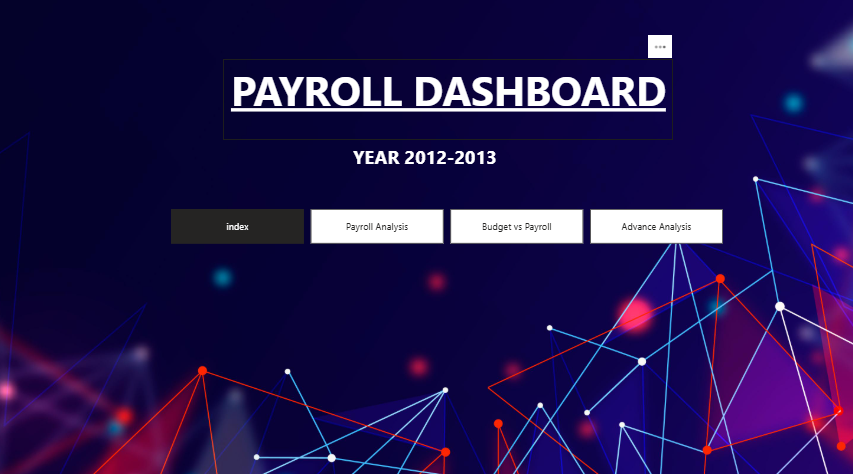

This screenshot's page, from the dashboard's own definition file:
{"tool":"powerbi","page":{"name":"index","canvas":[1280,720],"ordinal":0},"visuals":[{"type":"textbox","box":[347.7,92.4,651.8,117.6],"z":0},{"type":"textbox","box":[493.9,210,292.3,52.1],"z":1000},{"type":"pageNavigator","box":[273.3,309.4,799.5,50.6],"z":2000}]}

Visuals, with their boxes in screenshot pixels (x1, y1, x2, y2), scaled from the page's 1280x720 canvas onto the 853x474 screenshot:
textbox: box=[232, 61, 666, 138]
textbox: box=[329, 138, 524, 173]
pageNavigator: box=[182, 204, 715, 237]
